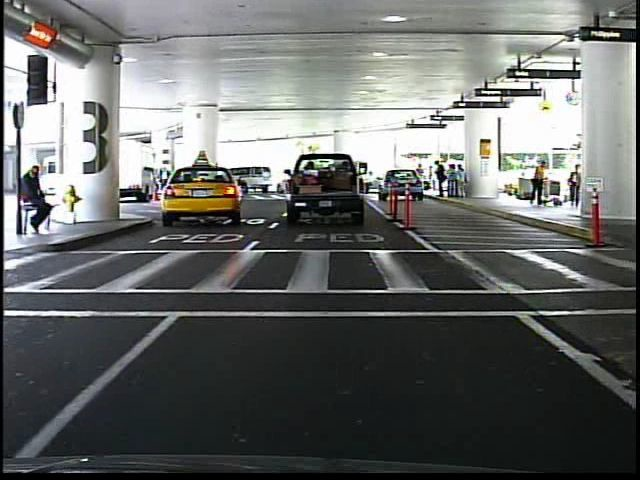person: (21, 160, 58, 232), (527, 156, 550, 209), (567, 161, 583, 208), (416, 161, 428, 192)
